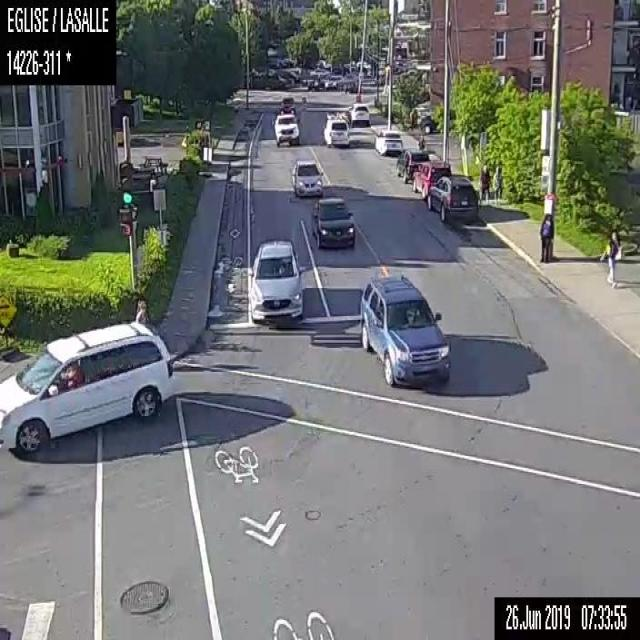pedestrian: (601, 229, 621, 287), (539, 212, 554, 261), (477, 164, 489, 205), (134, 299, 149, 328), (492, 163, 502, 204), (416, 132, 426, 152)
vehicle: (0, 320, 174, 457), (358, 273, 450, 384), (247, 240, 305, 323), (425, 173, 478, 223), (312, 198, 354, 246), (410, 158, 449, 198), (394, 145, 431, 184), (291, 158, 322, 196), (321, 112, 350, 147), (373, 128, 403, 156), (273, 114, 299, 145), (347, 100, 369, 124), (418, 110, 437, 132), (321, 71, 344, 89), (341, 73, 358, 94), (278, 94, 294, 115)
